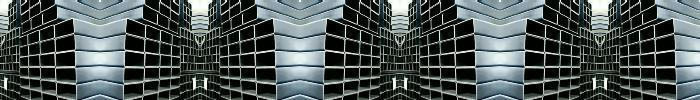pipe: (326, 18, 346, 39), (254, 18, 274, 39), (454, 18, 474, 39), (126, 18, 146, 39), (526, 18, 546, 39), (54, 18, 74, 39), (654, 18, 674, 39), (325, 35, 345, 53), (255, 35, 275, 53), (455, 35, 475, 53), (125, 35, 145, 53), (525, 35, 545, 53), (55, 35, 75, 53), (655, 35, 675, 53), (323, 84, 343, 100), (257, 84, 277, 100), (457, 84, 477, 100), (123, 84, 143, 100), (523, 84, 543, 100), (57, 84, 77, 100), (657, 84, 677, 100), (325, 52, 345, 67), (324, 68, 344, 83), (255, 52, 275, 67), (455, 52, 475, 67), (125, 52, 145, 67), (525, 52, 545, 67), (55, 52, 75, 67), (655, 52, 675, 67), (256, 68, 276, 83), (456, 68, 476, 83), (124, 68, 144, 83), (524, 68, 544, 83), (56, 68, 76, 83), (656, 68, 676, 83), (346, 25, 361, 41), (344, 80, 359, 96), (239, 25, 254, 41), (439, 25, 454, 41), (146, 25, 161, 41), (546, 25, 561, 41), (39, 25, 54, 41), (639, 25, 654, 41), (241, 80, 256, 96), (441, 80, 456, 96), (144, 80, 159, 96), (544, 80, 559, 96), (41, 80, 56, 96), (641, 80, 656, 96), (343, 7, 357, 24), (243, 7, 257, 24), (443, 7, 457, 24), (143, 7, 157, 24), (543, 7, 557, 24), (43, 7, 57, 24), (643, 7, 657, 24), (345, 40, 360, 54), (240, 40, 255, 54), (440, 40, 455, 54), (145, 40, 160, 54), (545, 40, 560, 54), (40, 40, 55, 54), (640, 40, 655, 54), (344, 68, 359, 81), (345, 54, 360, 67), (241, 68, 256, 81), (441, 68, 456, 81), (144, 68, 159, 81), (544, 68, 559, 81), (41, 68, 56, 81), (641, 68, 656, 81), (240, 54, 255, 67), (440, 54, 455, 67), (145, 54, 160, 67), (545, 54, 560, 67), (40, 54, 55, 67), (640, 54, 655, 67), (359, 2, 370, 19), (230, 2, 241, 19), (430, 2, 441, 19), (159, 2, 170, 19), (559, 2, 570, 19), (30, 2, 41, 19), (630, 2, 641, 19), (358, 15, 369, 30), (231, 15, 242, 30), (431, 15, 442, 30), (158, 15, 169, 30), (558, 15, 569, 30), (31, 15, 42, 30), (631, 15, 642, 30), (360, 43, 372, 56), (360, 67, 372, 80), (228, 43, 240, 56), (428, 43, 440, 56), (160, 43, 172, 56), (560, 43, 572, 56), (28, 43, 40, 56), (628, 43, 640, 56), (228, 67, 240, 80), (428, 67, 440, 80), (160, 67, 172, 80), (560, 67, 572, 80), (28, 67, 40, 80), (628, 67, 640, 80), (359, 79, 371, 91), (229, 79, 241, 91), (429, 79, 441, 91), (159, 79, 171, 91), (559, 79, 571, 91), (29, 79, 41, 91), (629, 79, 641, 91), (361, 31, 372, 44), (228, 31, 239, 44), (428, 31, 439, 44), (161, 31, 172, 44), (561, 31, 572, 44), (28, 31, 39, 44), (628, 31, 639, 44), (369, 19, 378, 33), (222, 19, 231, 33), (422, 19, 431, 33), (169, 19, 178, 33), (569, 19, 578, 33), (22, 19, 31, 33), (622, 19, 631, 33), (360, 55, 371, 66), (229, 55, 240, 66), (429, 55, 440, 66), (160, 55, 171, 66), (560, 55, 571, 66), (29, 55, 40, 66), (629, 55, 640, 66), (370, 87, 379, 100), (221, 87, 230, 100), (421, 87, 430, 100), (170, 87, 179, 100), (570, 87, 579, 100), (21, 87, 30, 100), (621, 87, 630, 100), (371, 10, 379, 24), (221, 10, 229, 24), (421, 10, 429, 24), (171, 10, 179, 24), (571, 10, 579, 24), (21, 10, 29, 24), (621, 10, 629, 24), (372, 35, 381, 47), (371, 78, 380, 90), (219, 35, 228, 47), (419, 35, 428, 47), (172, 35, 181, 47), (572, 35, 581, 47), (19, 35, 28, 47), (619, 35, 628, 47), (220, 78, 229, 90), (420, 78, 429, 90), (171, 78, 180, 90), (571, 78, 580, 90), (20, 78, 29, 90), (620, 78, 629, 90), (371, 2, 379, 15), (221, 2, 229, 15), (421, 2, 429, 15), (171, 2, 179, 15), (571, 2, 579, 15), (21, 2, 29, 15), (621, 2, 629, 15), (372, 46, 380, 57), (372, 57, 380, 68), (220, 46, 228, 57), (420, 46, 428, 57), (172, 46, 180, 57), (572, 46, 580, 57), (20, 46, 28, 57), (620, 46, 628, 57), (220, 57, 228, 68), (420, 57, 428, 68), (172, 57, 180, 68), (572, 57, 580, 68), (20, 57, 28, 68), (620, 57, 628, 68), (372, 68, 380, 78), (220, 68, 228, 78), (420, 68, 428, 78), (172, 68, 180, 78), (572, 68, 580, 78), (20, 68, 28, 78), (620, 68, 628, 78), (380, 27, 384, 37), (216, 27, 220, 37), (416, 27, 420, 37), (180, 27, 184, 37), (580, 27, 584, 37), (16, 27, 20, 37), (616, 27, 620, 37), (380, 36, 384, 45), (380, 75, 384, 84), (380, 84, 384, 93), (216, 36, 220, 45), (416, 36, 420, 45), (180, 36, 184, 45), (580, 36, 584, 45), (16, 36, 20, 45), (616, 36, 620, 45), (216, 75, 220, 84), (416, 75, 420, 84), (180, 75, 184, 84), (580, 75, 584, 84), (16, 75, 20, 84), (616, 75, 620, 84), (216, 84, 220, 93), (416, 84, 420, 93), (180, 84, 184, 93), (580, 84, 584, 93), (16, 84, 20, 93), (616, 84, 620, 93), (387, 90, 391, 98), (387, 47, 391, 55), (209, 90, 213, 98), (409, 90, 413, 98), (187, 90, 191, 98), (587, 90, 591, 98), (9, 90, 13, 98), (609, 90, 613, 98), (209, 47, 213, 55), (409, 47, 413, 55), (187, 47, 191, 55), (587, 47, 591, 55), (9, 47, 13, 55), (609, 47, 613, 55), (384, 19, 387, 29), (213, 19, 216, 29), (413, 19, 416, 29), (184, 19, 187, 29), (584, 19, 587, 29), (13, 19, 16, 29), (613, 19, 616, 29), (380, 93, 384, 100), (216, 93, 220, 100), (416, 93, 420, 100), (180, 93, 184, 100), (580, 93, 584, 100), (16, 93, 20, 100), (616, 93, 620, 100), (388, 31, 391, 40), (389, 9, 392, 18), (384, 83, 387, 92), (384, 91, 387, 100), (209, 31, 212, 40), (409, 31, 412, 40), (188, 31, 191, 40), (588, 31, 591, 40), (9, 31, 12, 40), (609, 31, 612, 40), (208, 9, 211, 18), (408, 9, 411, 18), (189, 9, 192, 18), (589, 9, 592, 18), (8, 9, 11, 18), (608, 9, 611, 18), (213, 83, 216, 92), (413, 83, 416, 92), (184, 83, 187, 92), (584, 83, 587, 92), (13, 83, 16, 92), (613, 83, 616, 92), (213, 91, 216, 100), (413, 91, 416, 100), (184, 91, 187, 100), (584, 91, 587, 100), (13, 91, 16, 100), (613, 91, 616, 100), (384, 63, 387, 71), (391, 40, 394, 48), (394, 63, 397, 71), (383, 5, 386, 13), (384, 12, 387, 20), (385, 30, 388, 38), (380, 46, 383, 54), (381, 54, 384, 62), (391, 89, 394, 97), (387, 75, 390, 83), (388, 55, 391, 63), (384, 38, 387, 46), (390, 74, 393, 82), (213, 63, 216, 71), (413, 63, 416, 71), (184, 63, 187, 71), (584, 63, 587, 71), (13, 63, 16, 71), (613, 63, 616, 71), (206, 40, 209, 48), (406, 40, 409, 48), (191, 40, 194, 48), (591, 40, 594, 48), (6, 40, 9, 48), (606, 40, 609, 48), (203, 63, 206, 71), (403, 63, 406, 71), (194, 63, 197, 71), (594, 63, 597, 71), (3, 63, 6, 71), (603, 63, 606, 71), (214, 5, 217, 13), (414, 5, 417, 13), (183, 5, 186, 13), (583, 5, 586, 13), (14, 5, 17, 13), (614, 5, 617, 13), (213, 12, 216, 20), (413, 12, 416, 20), (184, 12, 187, 20), (584, 12, 587, 20), (13, 12, 16, 20), (613, 12, 616, 20), (212, 30, 215, 38), (412, 30, 415, 38), (185, 30, 188, 38), (585, 30, 588, 38), (12, 30, 15, 38), (612, 30, 615, 38), (217, 46, 220, 54), (417, 46, 420, 54), (180, 46, 183, 54), (580, 46, 583, 54), (17, 46, 20, 54), (617, 46, 620, 54), (216, 54, 219, 62), (416, 54, 419, 62), (181, 54, 184, 62), (581, 54, 584, 62), (16, 54, 19, 62), (616, 54, 619, 62), (206, 89, 209, 97), (406, 89, 409, 97), (191, 89, 194, 97), (591, 89, 594, 97), (6, 89, 9, 97), (606, 89, 609, 97), (210, 75, 213, 83), (410, 75, 413, 83), (187, 75, 190, 83), (587, 75, 590, 83), (10, 75, 13, 83), (610, 75, 613, 83), (209, 55, 212, 63), (409, 55, 412, 63), (188, 55, 191, 63), (588, 55, 591, 63), (9, 55, 12, 63), (609, 55, 612, 63), (213, 38, 216, 46), (413, 38, 416, 46), (184, 38, 187, 46), (584, 38, 587, 46), (13, 38, 16, 46), (613, 38, 616, 46), (207, 74, 210, 82), (407, 74, 410, 82), (190, 74, 193, 82), (590, 74, 593, 82), (7, 74, 10, 82), (607, 74, 610, 82), (384, 47, 387, 54), (396, 35, 399, 42), (389, 3, 392, 10), (391, 33, 394, 40), (384, 76, 387, 83), (391, 56, 394, 63), (384, 55, 387, 62), (388, 63, 391, 70), (391, 64, 394, 71), (391, 48, 394, 55), (394, 56, 397, 63), (387, 39, 390, 46), (213, 47, 216, 54), (413, 47, 416, 54), (184, 47, 187, 54), (584, 47, 587, 54), (13, 47, 16, 54), (613, 47, 616, 54), (201, 35, 204, 42), (401, 35, 404, 42), (196, 35, 199, 42), (596, 35, 599, 42), (1, 35, 4, 42), (601, 35, 604, 42), (208, 3, 211, 10), (408, 3, 411, 10), (189, 3, 192, 10), (589, 3, 592, 10), (8, 3, 11, 10), (608, 3, 611, 10), (206, 33, 209, 40), (406, 33, 409, 40), (191, 33, 194, 40), (591, 33, 594, 40), (6, 33, 9, 40), (606, 33, 609, 40), (213, 76, 216, 83), (413, 76, 416, 83), (184, 76, 187, 83), (584, 76, 587, 83), (13, 76, 16, 83), (613, 76, 616, 83), (206, 56, 209, 63), (406, 56, 409, 63), (191, 56, 194, 63), (591, 56, 594, 63), (6, 56, 9, 63), (606, 56, 609, 63), (213, 55, 216, 62), (413, 55, 416, 62), (184, 55, 187, 62), (584, 55, 587, 62), (13, 55, 16, 62), (613, 55, 616, 62), (209, 63, 212, 70), (409, 63, 412, 70), (188, 63, 191, 70), (588, 63, 591, 70), (9, 63, 12, 70), (609, 63, 612, 70), (206, 64, 209, 71), (406, 64, 409, 71), (191, 64, 194, 71), (591, 64, 594, 71), (6, 64, 9, 71), (606, 64, 609, 71), (206, 48, 209, 55), (406, 48, 409, 55), (191, 48, 194, 55), (591, 48, 594, 55), (6, 48, 9, 55), (606, 48, 609, 55), (203, 56, 206, 63), (403, 56, 406, 63), (194, 56, 197, 63), (594, 56, 597, 63), (3, 56, 6, 63), (603, 56, 606, 63), (210, 39, 213, 46), (410, 39, 413, 46), (187, 39, 190, 46), (587, 39, 590, 46), (10, 39, 13, 46), (610, 39, 613, 46), (396, 43, 399, 49), (201, 43, 204, 49), (401, 43, 404, 49), (196, 43, 199, 49), (596, 43, 599, 49), (1, 43, 4, 49), (601, 43, 604, 49), (387, 7, 389, 15), (387, 15, 389, 23), (387, 22, 389, 30), (381, 63, 383, 71), (396, 73, 398, 81), (211, 7, 213, 15), (411, 7, 413, 15), (187, 7, 189, 15), (587, 7, 589, 15), (11, 7, 13, 15), (611, 7, 613, 15), (211, 15, 213, 23), (411, 15, 413, 23), (187, 15, 189, 23), (587, 15, 589, 23), (11, 15, 13, 23), (611, 15, 613, 23), (211, 22, 213, 30), (411, 22, 413, 30), (187, 22, 189, 30), (587, 22, 589, 30), (11, 22, 13, 30), (611, 22, 613, 30), (217, 63, 219, 71), (417, 63, 419, 71), (181, 63, 183, 71), (581, 63, 583, 71), (17, 63, 19, 71), (617, 63, 619, 71), (202, 73, 204, 81), (402, 73, 404, 81), (196, 73, 198, 81), (596, 73, 598, 81), (2, 73, 4, 81), (602, 73, 604, 81), (390, 24, 392, 31), (396, 49, 398, 56), (396, 81, 398, 88), (396, 88, 398, 95), (397, 63, 399, 70), (208, 24, 210, 31), (408, 24, 410, 31), (190, 24, 192, 31), (590, 24, 592, 31), (8, 24, 10, 31), (608, 24, 610, 31), (202, 49, 204, 56), (402, 49, 404, 56), (196, 49, 198, 56), (596, 49, 598, 56), (2, 49, 4, 56), (602, 49, 604, 56), (202, 81, 204, 88), (402, 81, 404, 88), (196, 81, 198, 88), (596, 81, 598, 88), (2, 81, 4, 88), (602, 81, 604, 88), (202, 88, 204, 95), (402, 88, 404, 95), (196, 88, 198, 95), (596, 88, 598, 95), (2, 88, 4, 95), (602, 88, 604, 95), (201, 63, 203, 70), (401, 63, 403, 70), (197, 63, 199, 70), (597, 63, 599, 70), (1, 63, 3, 70), (601, 63, 603, 70), (394, 49, 396, 55), (204, 49, 206, 55), (404, 49, 406, 55), (194, 49, 196, 55), (594, 49, 596, 55), (4, 49, 6, 55), (604, 49, 606, 55), (397, 57, 399, 62), (201, 57, 203, 62), (401, 57, 403, 62), (197, 57, 199, 62), (597, 57, 599, 62), (1, 57, 3, 62), (601, 57, 603, 62), (390, 17, 391, 24), (209, 17, 210, 24), (409, 17, 410, 24), (190, 17, 191, 24), (590, 17, 591, 24), (9, 17, 10, 24), (609, 17, 610, 24)
